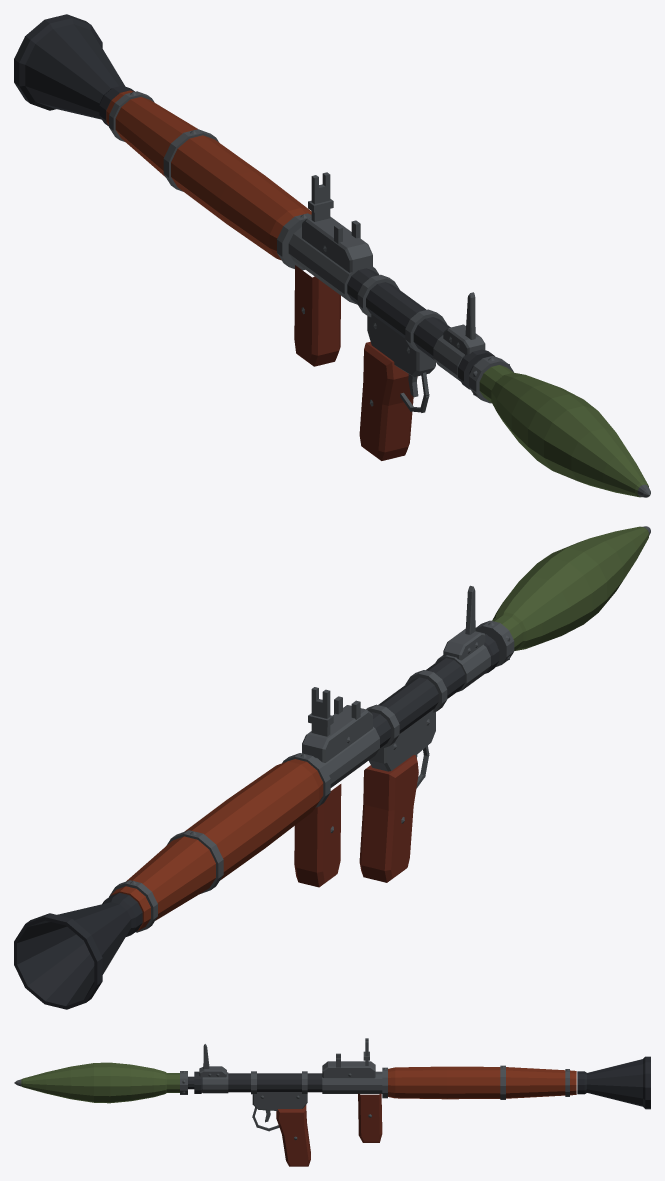
The model's file is rocket-launcher-032299.glb.
3 renders of one model, top to bottom at view 1: azimuth 30°, elevation 25°; view 2: azimuth 150°, elevation 25°; view 3: azimuth 270°, elevation 25°, orthographic. The views are drawn at different scales.
Parts seen in each view (by area): view 1: launcher-body, rocket-mesh, rear-sight-mesh; view 2: launcher-body, rocket-mesh, rear-sight-mesh; view 3: launcher-body, rocket-mesh.
Part boxes in pixels (left/top/right/bottom): launcher-body: left=14, top=14, right=494, bottom=460; rocket-mesh: left=469, top=356, right=650, bottom=497; rear-sight-mesh: left=308, top=172, right=333, bottom=221; launcher-body: left=14, top=629, right=499, bottom=1009; rocket-mesh: left=475, top=526, right=650, bottom=666; rear-sight-mesh: left=308, top=687, right=333, bottom=736; launcher-body: left=194, top=1053, right=650, bottom=1166; rocket-mesh: left=14, top=1062, right=194, bottom=1103.
Bounding box in the file's own units: 0.1053 × 0.2775 × 1.3.
